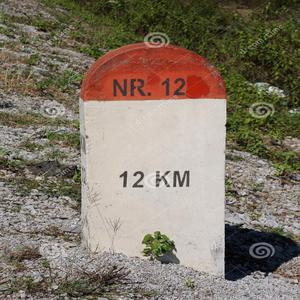kmstone: (82, 41, 230, 282)
